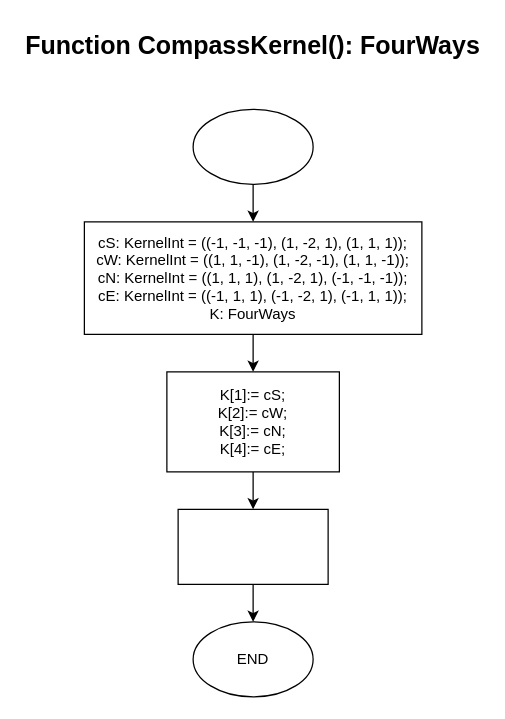
The diagram is 505 pixels wide and 719 high, and some of its shapes have lost their labels. The shapes that lost their labels are listed below. From the top down, each one's box as (x1, y1, x2, y2) in pixels, then its label:
(192, 108, 313, 184): START
(177, 508, 328, 584): return K
